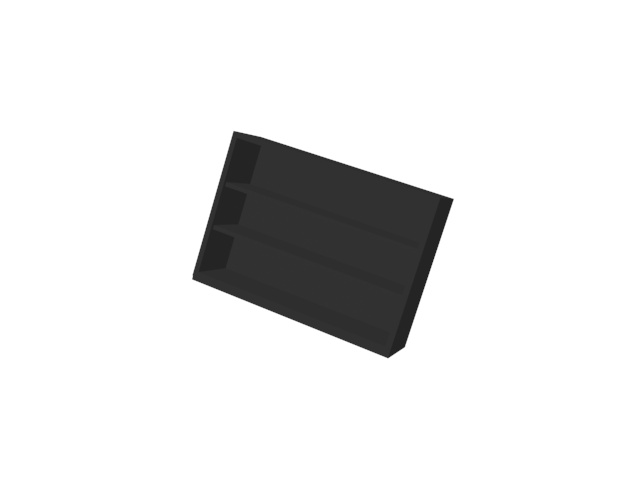bookcase: (191, 129, 456, 360)
